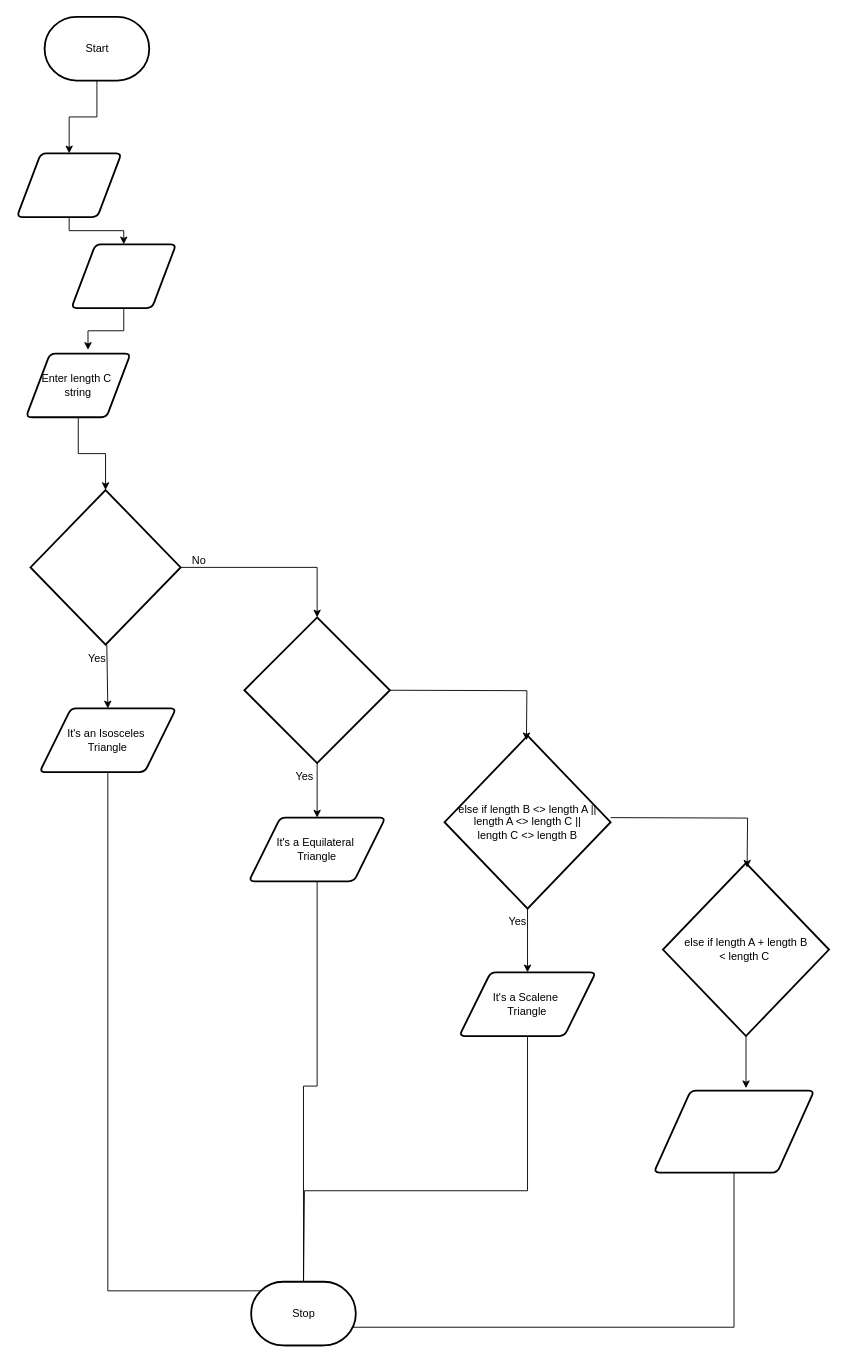
Image size: 845x1361. Some labels were removed from this diagram. Each missing label, with the centre of its shape:
"else if length B == length A && length A == length C" belongs at [316,689].
"Enter length A string" belongs at [68,184].
"Enter length B string" belongs at [123,275].
"if length B == length A || length A == length C || length C == length B" belongs at [105,567].
"It doesn't form a triangle" belongs at [733,1131].
